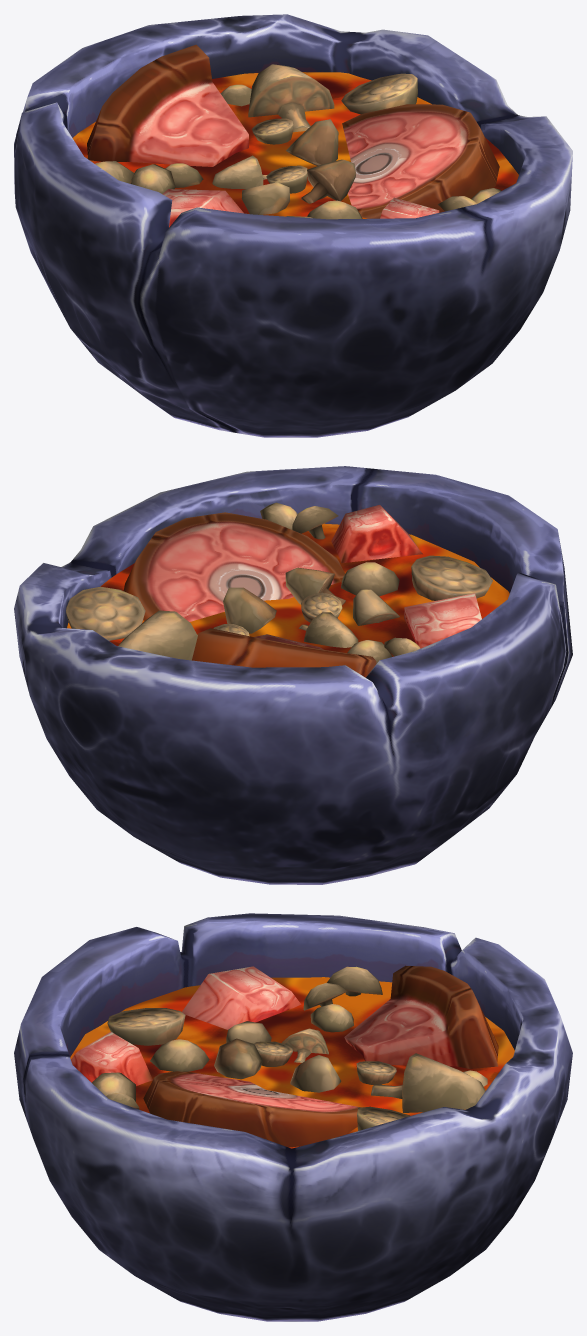
File: 283_rotworm_stew.fbx
The picture shows the model from 3 angles, top to bottom: view 1: azimuth 30°, elevation 25°; view 2: azimuth 150°, elevation 25°; view 3: azimuth 270°, elevation 25°; orthographic projection. The views are drawn at different scales.
Visible parts, largest first — view 1: 283_rotworm_stew; view 2: 283_rotworm_stew; view 3: 283_rotworm_stew.
Boxes of the visible parts, x1,y1,x2,y2 form: 283_rotworm_stew: [14, 14, 572, 437]; 283_rotworm_stew: [14, 466, 572, 884]; 283_rotworm_stew: [14, 913, 572, 1321].
Bounding box in the file's own units: 39.01 × 21.03 × 42.14.
